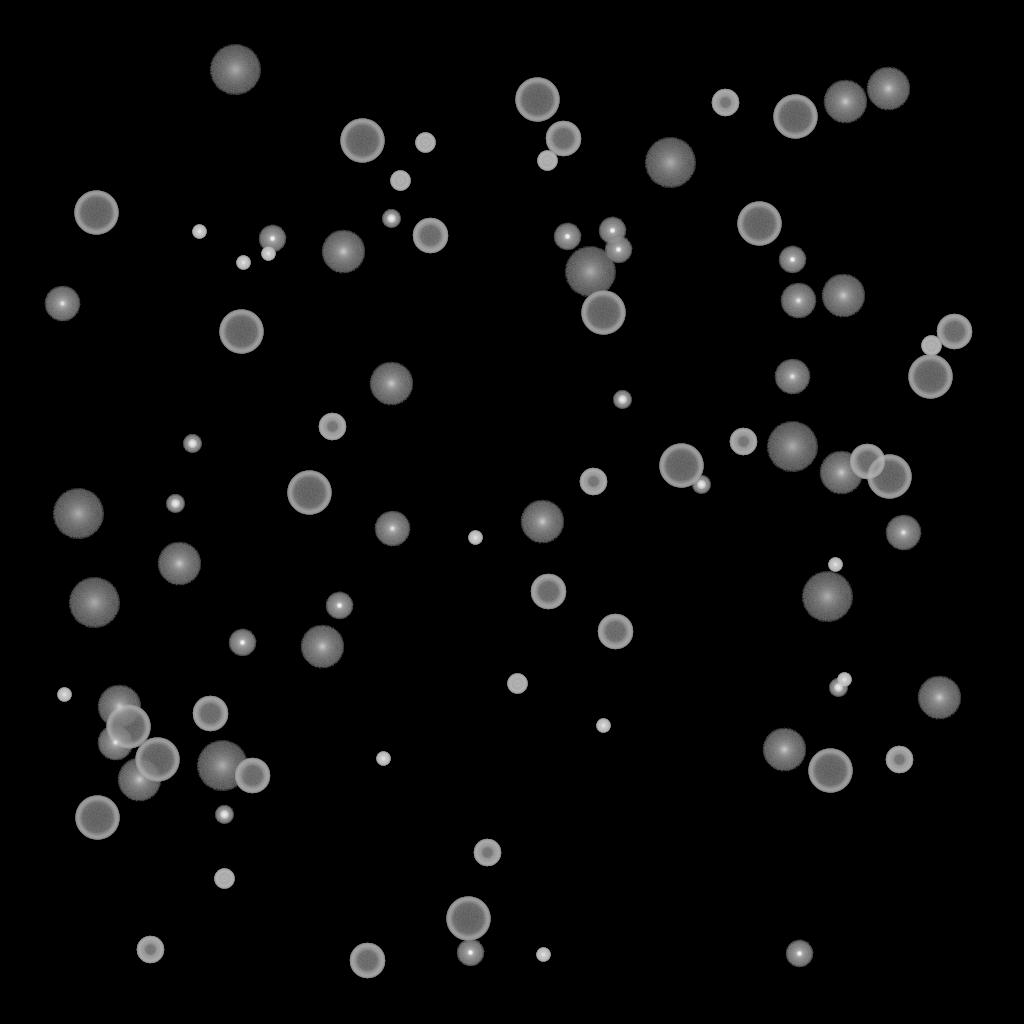depth:-10: (258, 225, 286, 253), (598, 217, 626, 245), (228, 629, 256, 657), (785, 940, 813, 968), (553, 223, 581, 251), (604, 236, 632, 264), (325, 592, 353, 620), (456, 939, 484, 967), (778, 246, 806, 274)
depth:-20: (215, 806, 233, 824), (382, 210, 400, 228), (829, 679, 847, 697), (613, 391, 631, 409), (183, 435, 201, 453), (166, 495, 184, 513), (692, 476, 710, 494)
depth:-30: (536, 948, 550, 962), (192, 225, 206, 239), (261, 247, 275, 261), (468, 531, 482, 545), (837, 673, 851, 687), (828, 558, 842, 572), (236, 256, 250, 270), (57, 688, 71, 702), (596, 719, 610, 733), (376, 752, 390, 766)
depth:-40: (415, 133, 435, 153), (507, 674, 527, 694), (214, 869, 234, 889), (921, 336, 941, 356), (390, 171, 410, 191), (537, 151, 557, 171)
depth:-50: (318, 413, 346, 441), (729, 428, 757, 456), (473, 839, 501, 867), (711, 89, 739, 117), (579, 468, 607, 496), (136, 936, 164, 964), (885, 746, 913, 774)
depth:-60: (597, 614, 633, 650), (936, 314, 972, 350), (234, 758, 270, 794), (192, 696, 228, 732), (545, 121, 581, 157), (530, 574, 566, 610), (849, 444, 885, 480), (349, 943, 385, 979), (412, 218, 448, 254)
depth:-70: (867, 455, 911, 499), (515, 78, 559, 122), (659, 444, 703, 488), (773, 95, 817, 139), (135, 738, 179, 782), (287, 471, 331, 515), (581, 291, 625, 335), (106, 705, 150, 749), (340, 119, 384, 163), (737, 202, 781, 246), (808, 749, 852, 793), (75, 796, 119, 840), (908, 355, 952, 399), (74, 191, 118, 235), (446, 897, 490, 941), (219, 310, 263, 354)
depth:0: (780, 283, 816, 319), (885, 515, 921, 551), (374, 511, 410, 547), (774, 359, 810, 395), (44, 286, 80, 322), (97, 725, 133, 761)
depth:10: (369, 362, 413, 406), (821, 274, 865, 318), (917, 676, 961, 720), (823, 80, 867, 124), (97, 685, 141, 729), (819, 451, 863, 495), (321, 230, 365, 274), (117, 758, 161, 802), (762, 728, 806, 772), (520, 500, 564, 544), (300, 625, 344, 669), (866, 67, 910, 111), (157, 542, 201, 586)
depth:20: (766, 422, 818, 472), (52, 489, 104, 539), (644, 138, 696, 188), (68, 578, 120, 628), (801, 572, 853, 622), (196, 741, 248, 791), (209, 45, 261, 95), (564, 247, 616, 297)
